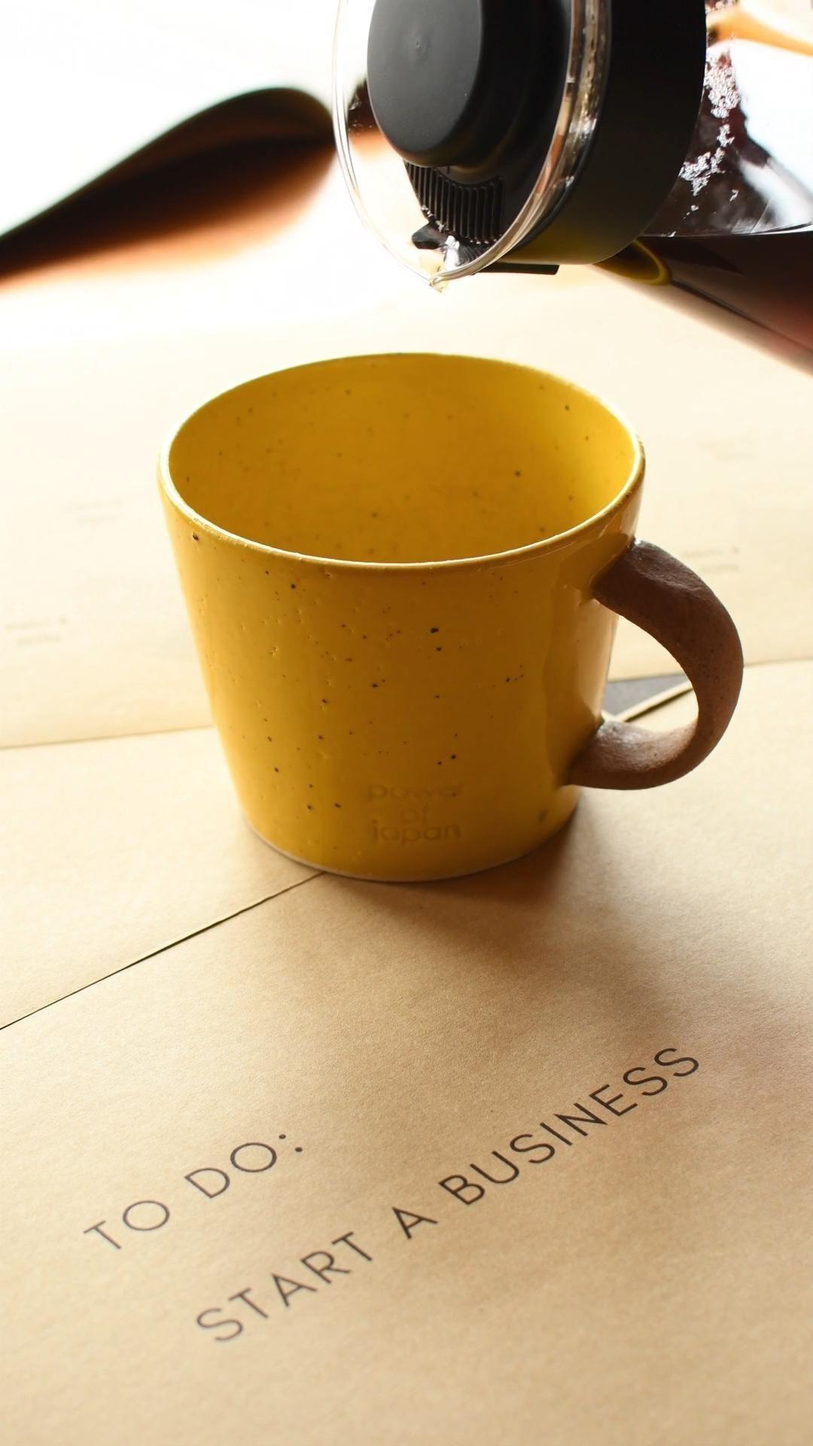cup-handle: (154, 344, 746, 882)
